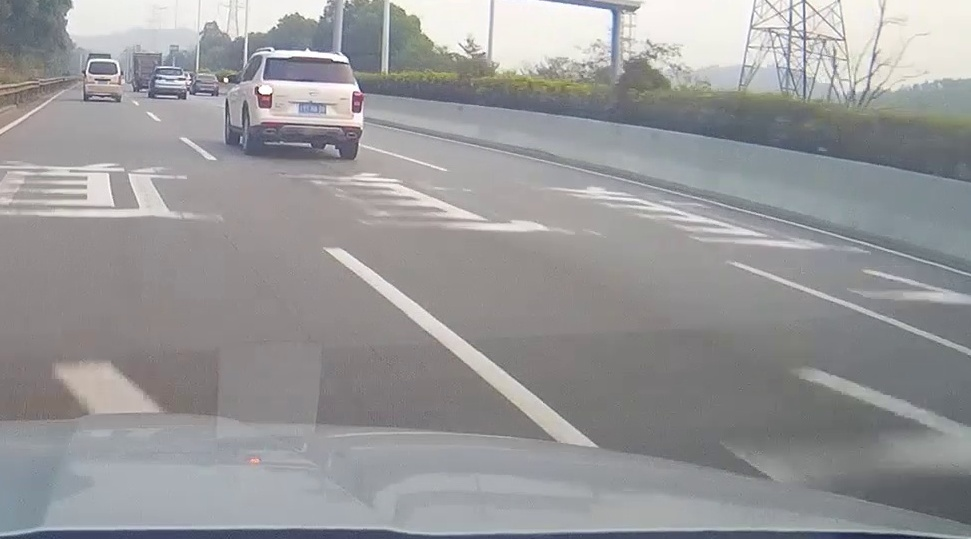L_light: (255, 85, 272, 108), (84, 74, 88, 83), (153, 76, 162, 80)
R_light: (352, 90, 363, 113), (117, 75, 121, 85), (178, 77, 186, 81)
T_light: (291, 56, 331, 61), (99, 61, 106, 64), (165, 68, 172, 70)
day-left: (253, 50, 364, 159)
day-no: (84, 59, 121, 102), (150, 66, 187, 100)
